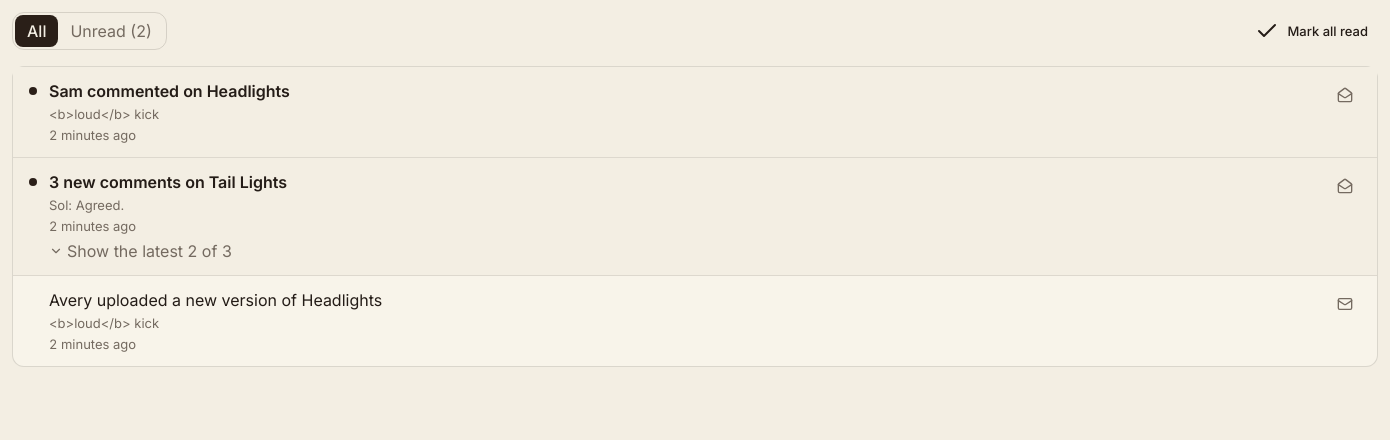
Scenario: notification center (task 095) › expands a group to its newest events, each with its own link
Click the button "Show the latest 2 of 3" at (140, 251), box [49,239,232,263]
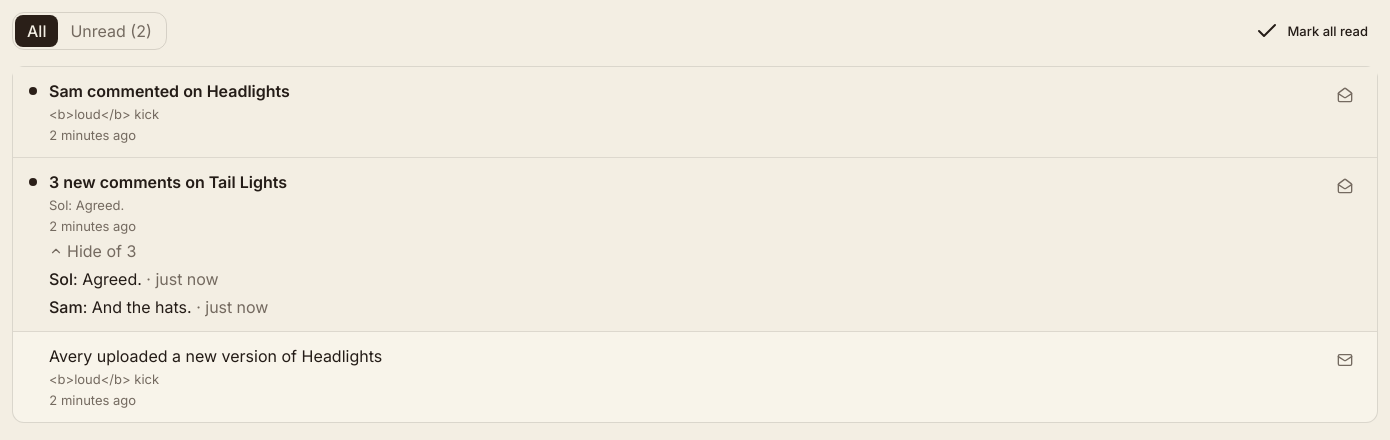
Now the button named "Show the latest 2 of 3" is expanded, box [49,239,136,263]
